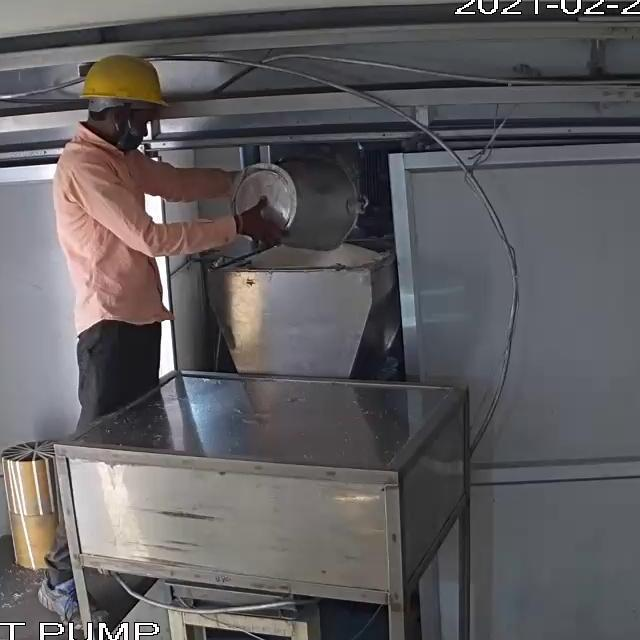Hardhat: (74, 58, 170, 108)
Mask: (118, 120, 142, 152)
NO-Safety Vest: (53, 143, 172, 329)
Person: (34, 52, 289, 634)
